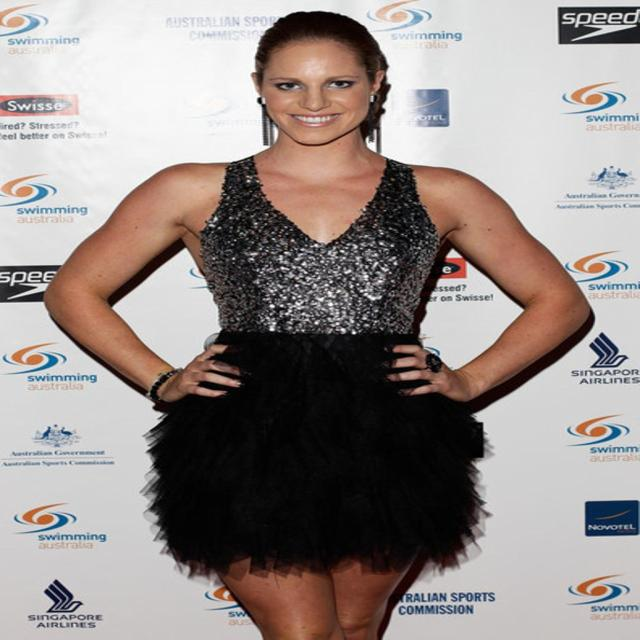nomask: (264, 48, 370, 144)
